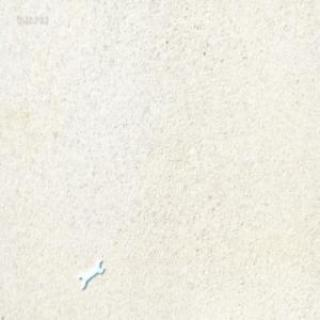Wrenchtrack_idkeyframe: (78, 258, 105, 289)
